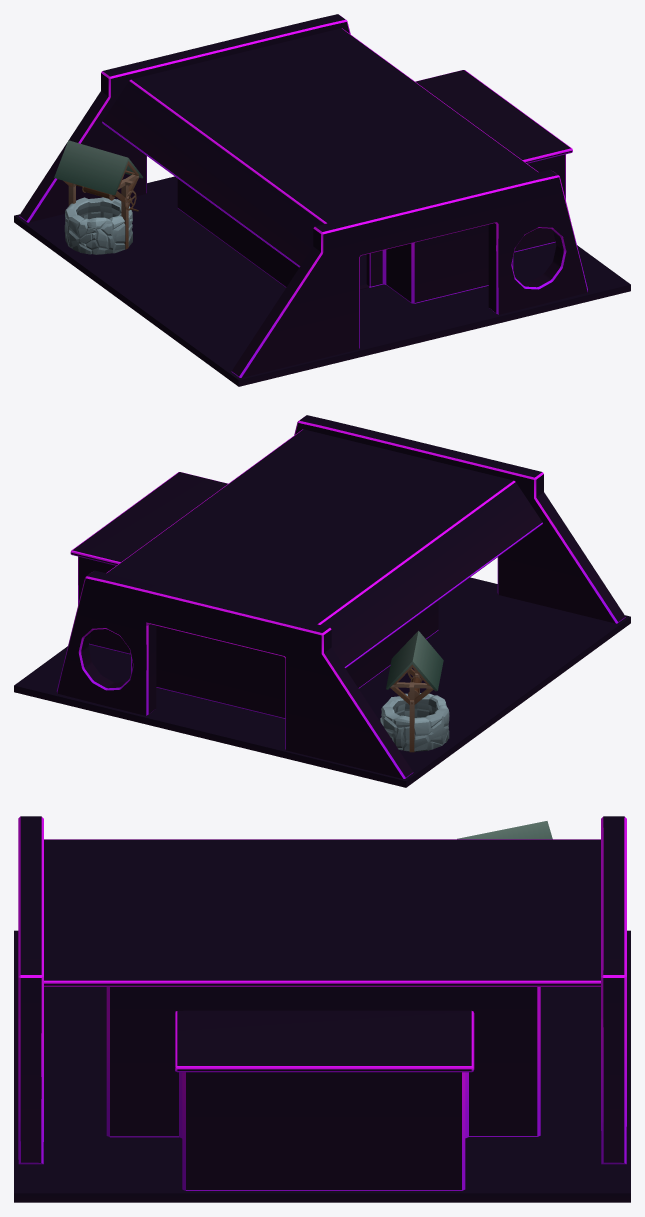
File: cyberpunk_churchland.fbx
3 renders of one model, top to bottom at view 1: azimuth 30°, elevation 25°; view 2: azimuth 150°, elevation 25°; view 3: azimuth 270°, elevation 25°, orthographic. The views are drawn at different scales.
Visible parts, largest first — view 1: concession_stand:polySurface2, ground, concession_stand:wall_redux1, concession_stand:innerWall, wall_redux1, concession_stand:pCube3, pasted__stone_well, pasted__roof, pasted__posts; view 2: concession_stand:polySurface2, ground, wall_redux1, concession_stand:wall_redux1, concession_stand:innerWall, concession_stand:pCube3, pasted__stone_well, pasted__roof, pasted__posts; view 3: concession_stand:polySurface2, concession_stand:innerWall, ground, concession_stand:pCube3, wall_redux1, concession_stand:wall_redux1, pasted__roof.
Part boxes in pixels (box(x1,y1,x2,y2)): concession_stand:polySurface2: box(102, 28, 538, 267); ground: box(14, 176, 630, 386); concession_stand:wall_redux1: box(231, 169, 587, 377); concession_stand:innerWall: box(177, 154, 565, 303); wall_redux1: box(19, 14, 350, 222); concession_stand:pCube3: box(415, 70, 572, 163); pasted__stone_well: box(64, 197, 132, 254); pasted__roof: box(54, 140, 143, 195); pasted__posts: box(63, 174, 139, 249); concession_stand:polySurface2: box(106, 429, 542, 668); ground: box(14, 577, 630, 787); wall_redux1: box(56, 570, 413, 778); concession_stand:wall_redux1: box(294, 415, 625, 623); concession_stand:innerWall: box(78, 556, 438, 718); concession_stand:pCube3: box(70, 472, 227, 565); pasted__stone_well: box(380, 693, 449, 751); pasted__roof: box(386, 631, 443, 691); pasted__posts: box(390, 668, 433, 752); concession_stand:polySurface2: box(44, 839, 600, 986); concession_stand:innerWall: box(106, 987, 540, 1190); ground: box(14, 930, 630, 1202); concession_stand:pCube3: box(175, 1010, 474, 1072); wall_redux1: box(601, 816, 626, 1164); concession_stand:wall_redux1: box(18, 816, 43, 1164); pasted__roof: box(457, 821, 552, 839).
Bounding box in the file's own units: 201 × 64.46 × 199.
